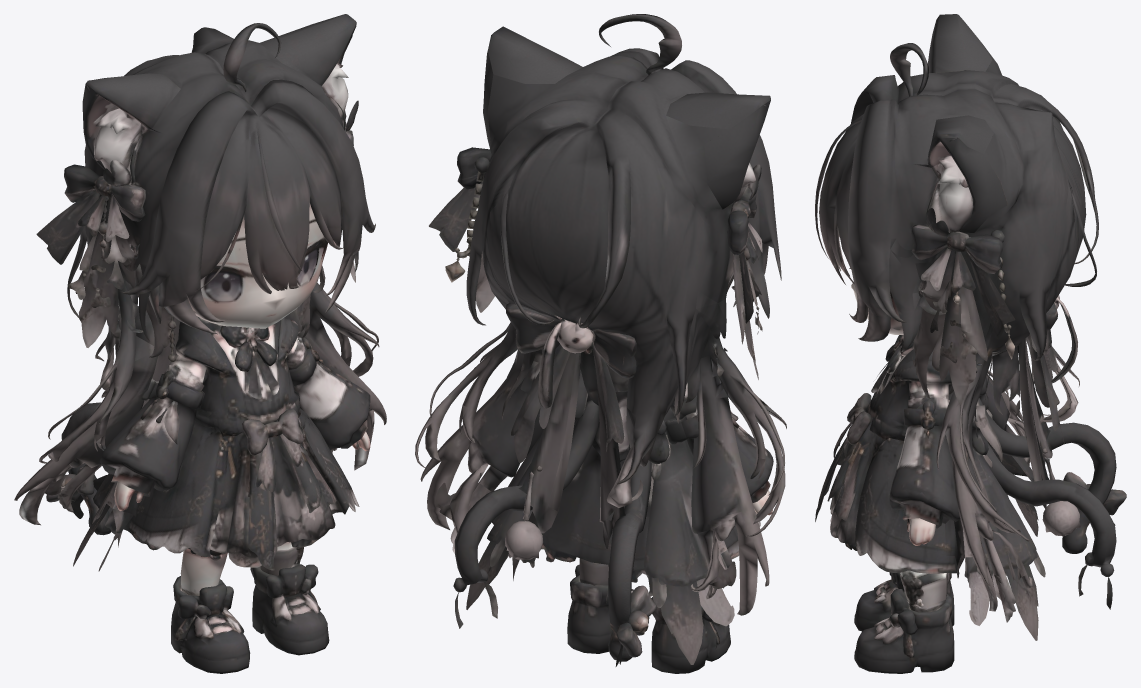
File: source.glb
3 renders of one model, left to right at view 1: azimuth 30°, elevation 25°; view 2: azimuth 150°, elevation 25°; view 3: azimuth 270°, elevation 25°, orthographic. The views are drawn at different scales.
Visible parts, largest first — view 1: tripo_part_0, tripo_part_5, tripo_part_1, tripo_part_7, tripo_part_13, tripo_part_6, tripo_part_9, tripo_part_8, tripo_part_65, tripo_part_69, tripo_part_74, tripo_part_3 (+18 smaller); view 2: tripo_part_0, tripo_part_4, tripo_part_76, tripo_part_18, tripo_part_58, tripo_part_65, tripo_part_42, tripo_part_6, tripo_part_26, tripo_part_69, tripo_part_8, tripo_part_131 (+19 smaller); view 3: tripo_part_0, tripo_part_5, tripo_part_9, tripo_part_6, tripo_part_4, tripo_part_18, tripo_part_1, tripo_part_75, tripo_part_55, tripo_part_69, tripo_part_26, tripo_part_12 (+20 smaller).
Part boxes in pixels (x1,y1,x2,y2): tripo_part_0: [14, 27, 386, 525]; tripo_part_5: [123, 408, 359, 570]; tripo_part_1: [169, 314, 307, 436]; tripo_part_7: [100, 366, 204, 510]; tripo_part_13: [118, 202, 327, 328]; tripo_part_6: [250, 563, 329, 655]; tripo_part_9: [289, 340, 370, 451]; tripo_part_8: [171, 576, 250, 673]; tripo_part_65: [260, 14, 356, 85]; tripo_part_69: [86, 73, 180, 129]; tripo_part_74: [75, 196, 118, 347]; tripo_part_3: [64, 164, 145, 221]; tripo_part_0: [415, 48, 786, 615]; tripo_part_4: [487, 420, 734, 626]; tripo_part_76: [518, 352, 580, 533]; tripo_part_18: [453, 400, 599, 592]; tripo_part_58: [704, 100, 770, 209]; tripo_part_65: [488, 26, 582, 83]; tripo_part_42: [591, 342, 625, 548]; tripo_part_6: [567, 574, 649, 653]; tripo_part_26: [608, 524, 637, 661]; tripo_part_69: [666, 92, 770, 129]; tripo_part_8: [651, 597, 730, 673]; tripo_part_131: [661, 581, 703, 664]; tripo_part_0: [819, 45, 1098, 622]; tripo_part_5: [815, 408, 957, 573]; tripo_part_9: [889, 397, 960, 545]; tripo_part_6: [854, 589, 954, 673]; tripo_part_4: [945, 421, 1037, 625]; tripo_part_18: [981, 443, 1116, 576]; tripo_part_1: [867, 335, 953, 440]; tripo_part_75: [939, 255, 987, 405]; tripo_part_55: [932, 138, 1007, 232]; tripo_part_69: [928, 14, 992, 73]; tripo_part_26: [1062, 422, 1116, 553]; tripo_part_12: [911, 224, 1002, 273].
Bounding box in the file's own units: 0.6072 × 1 × 0.4724.
Materials: 1 (1 with a texture image).
